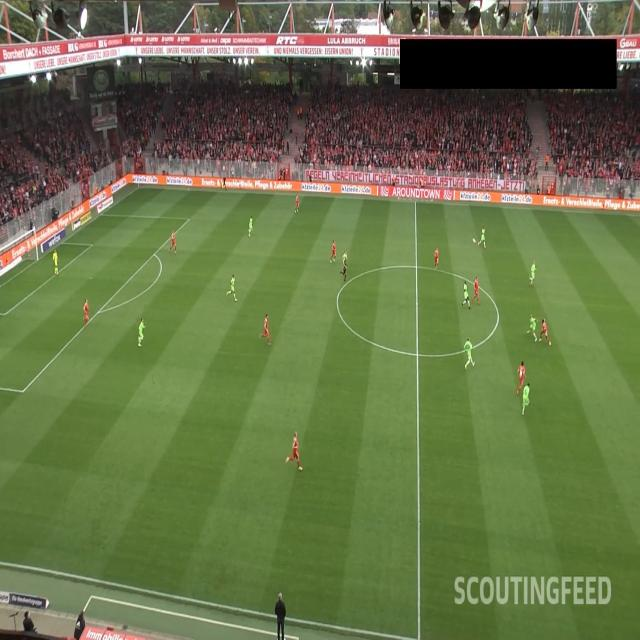ball: (472, 238, 476, 244)
